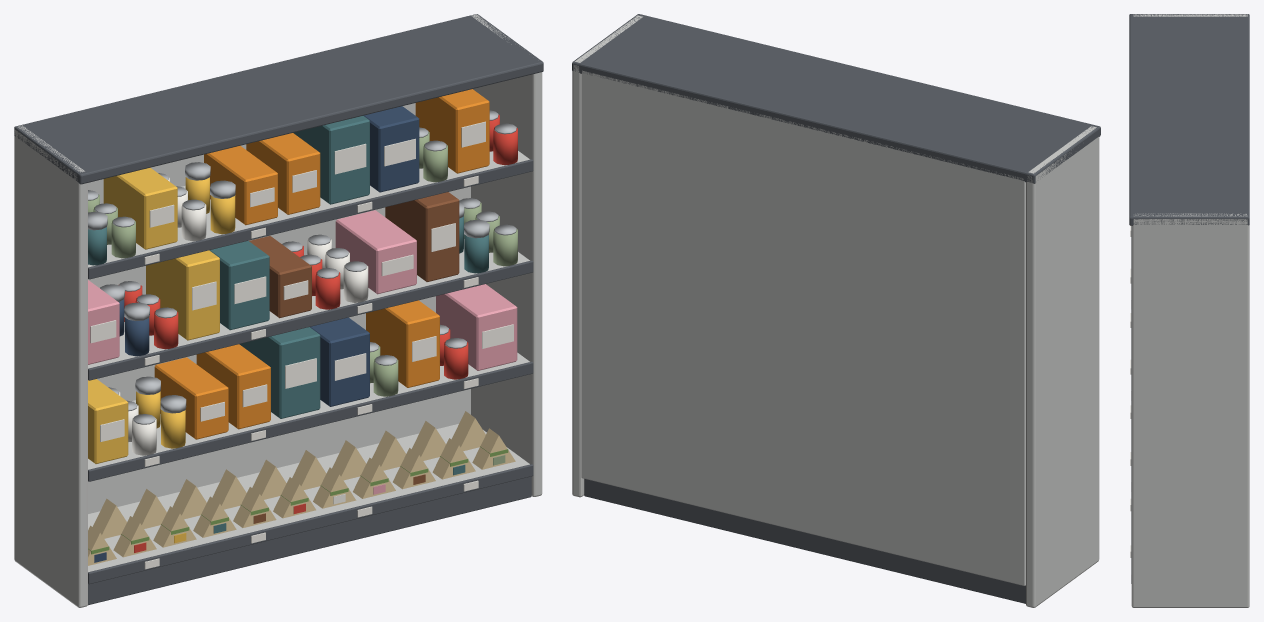
File: groceryShelf.glb
3 renders of one model, left to right at view 1: azimuth 30°, elevation 25°; view 2: azimuth 150°, elevation 25°; view 3: azimuth 270°, elevation 25°, orthographic. The views are drawn at different scales.
Parts seen in each view (by area): view 1: shelves; view 2: shelves; view 3: shelves.
Boxes of the visible parts, x1,y1,x2,y2 form: shelves: (14, 14, 543, 607); shelves: (572, 14, 1100, 607); shelves: (1129, 14, 1249, 607).
Size of the model in its own units: 1.92 by 1.72 by 0.48.
